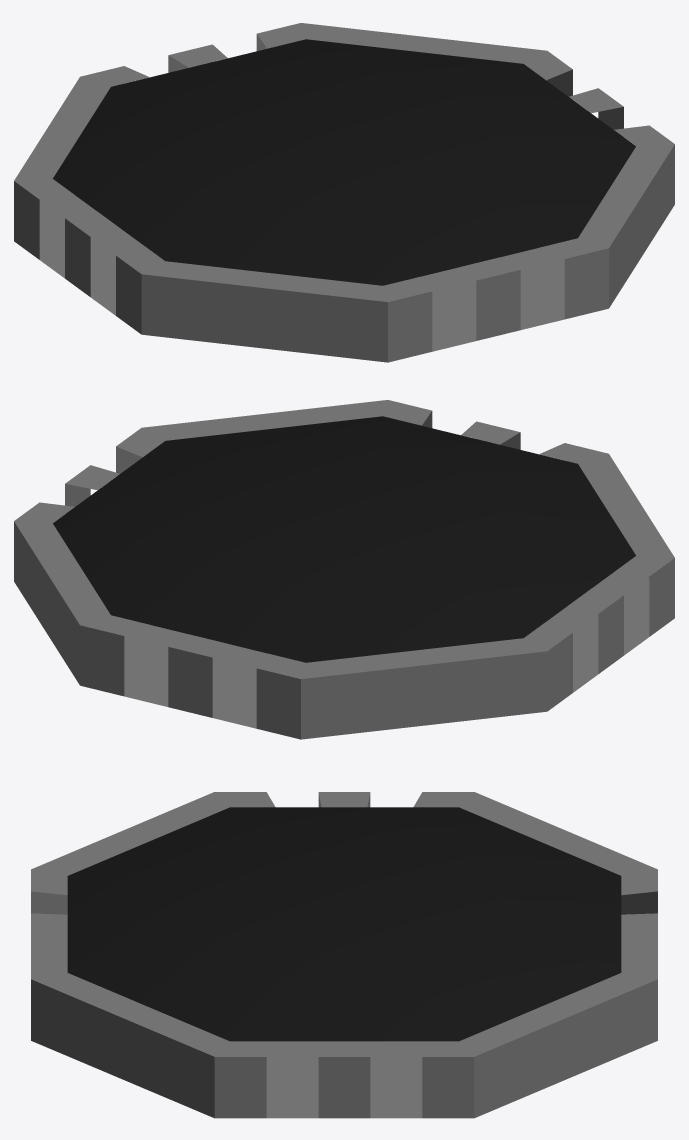
Rendered from Leg_CYSensor_1X1_off.fbx.
The picture shows the model from 3 angles, top to bottom: view 1: azimuth 30°, elevation 25°; view 2: azimuth 150°, elevation 25°; view 3: azimuth 270°, elevation 25°; orthographic projection.
Visible parts, largest first — view 1: Box002; view 2: Box002; view 3: Box002.
Part boxes in pixels (box(x1,y1,x2,y2)): Box002: box(14, 23, 674, 362); Box002: box(14, 400, 674, 739); Box002: box(31, 792, 657, 1118).
Size of the model in its own units: 0.9739 by 0.1418 by 0.9739.
